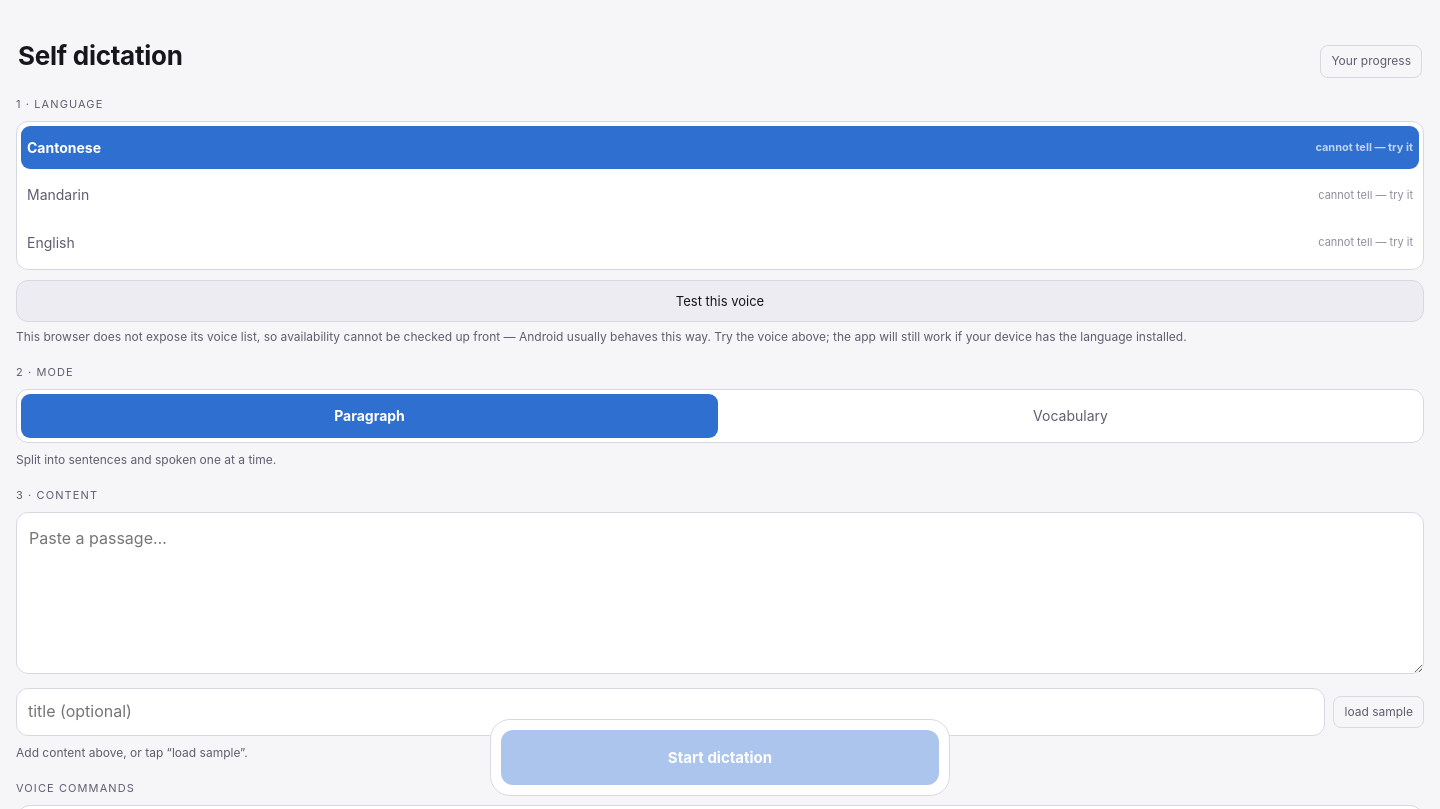
Test: Setup › says the voice played when it did
This screenshot has width=1440, height=809.
Step 1. Click the button "Test this voice" → (720, 301), box [16,280,1424,322]
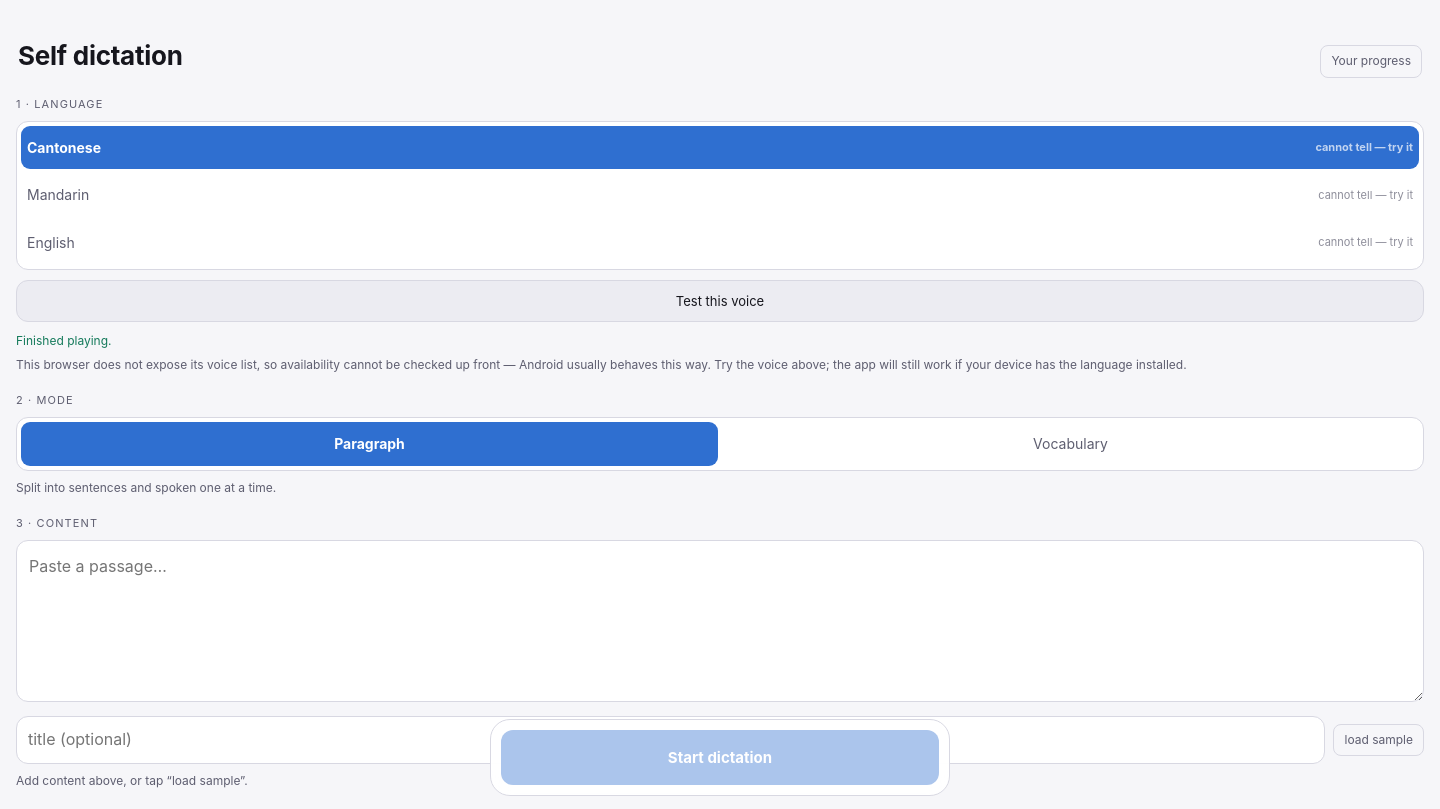
Expected: the text "Finished playing." is shown, [16,332,112,350]
